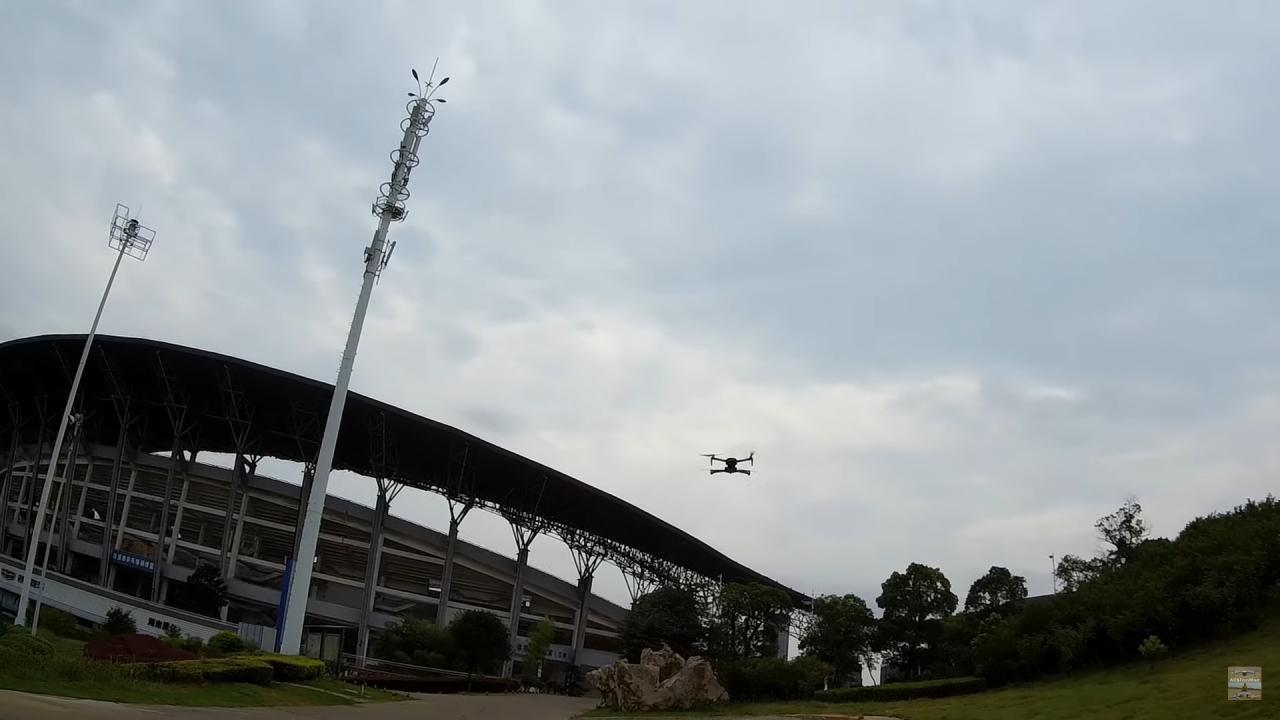Drone: (690, 444, 765, 485)
